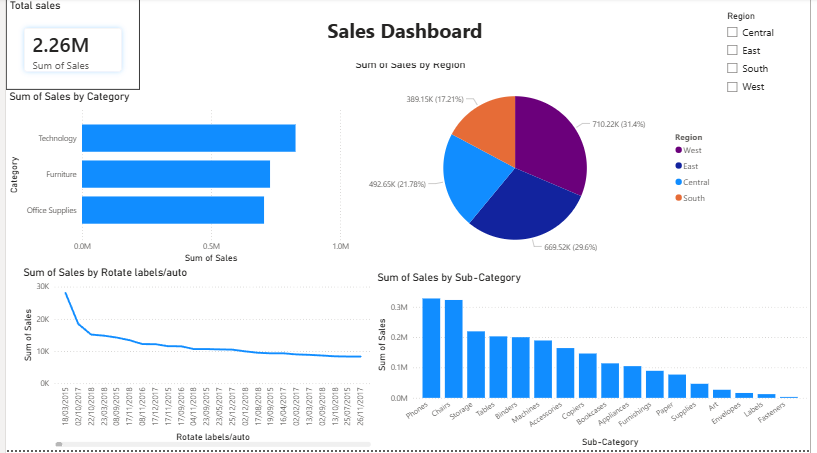

This screenshot's page, from the dashboard's own definition file:
{"tool":"powerbi","page":{"name":"Page 1","canvas":[1280,720],"ordinal":0},"visuals":[{"type":"cardVisual","title":"Total sales","fields":{"Data":["Sum(train.Sales)"]},"box":[0,0,213.3,146.5],"z":0},{"type":"clusteredBarChart","fields":{"Category":["train.Category"],"Y":["Sum(train.Sales)"]},"box":[0,146.5,550.8,280.2],"z":1000},{"type":"pieChart","fields":{"Category":["train.Region"],"Y":["Sum(train.Sales)"]},"box":[550.8,95.5,584.3,331.1],"z":2000},{"type":"lineChart","fields":{"Category":["train.Order Date"],"Y":["Sum(train.Sales)"]},"box":[22.3,426.7,563.6,292.9],"z":3000},{"type":"clusteredColumnChart","fields":{"Category":["train.Sub-Category"],"Y":["Sum(train.Sales)"]},"box":[585.9,434.6,694.1,285],"z":3001},{"type":"slicer","fields":{"Values":["train.Region"]},"box":[1135.1,15.9,144.9,175.1],"z":3002},{"type":"textbox","box":[506.3,23.9,409.2,79.6],"z":3003}]}

Visuals, with their boxes in screenshot pixels (x1, y1, x2, y2), scaled from the page's 1280x720 canvas onto the 817x453 screenshot:
"Total sales" cardVisual: locate(0, 0, 136, 92)
clusteredBarChart - train.Category x Sum(train.Sales): locate(0, 92, 352, 268)
pieChart - train.Region x Sum(train.Sales): locate(352, 60, 725, 268)
lineChart - train.Order Date x Sum(train.Sales): locate(14, 268, 374, 452)
clusteredColumnChart - train.Sub-Category x Sum(train.Sales): locate(374, 273, 816, 452)
slicer - train.Region: locate(725, 10, 816, 120)
textbox: locate(323, 15, 584, 65)
